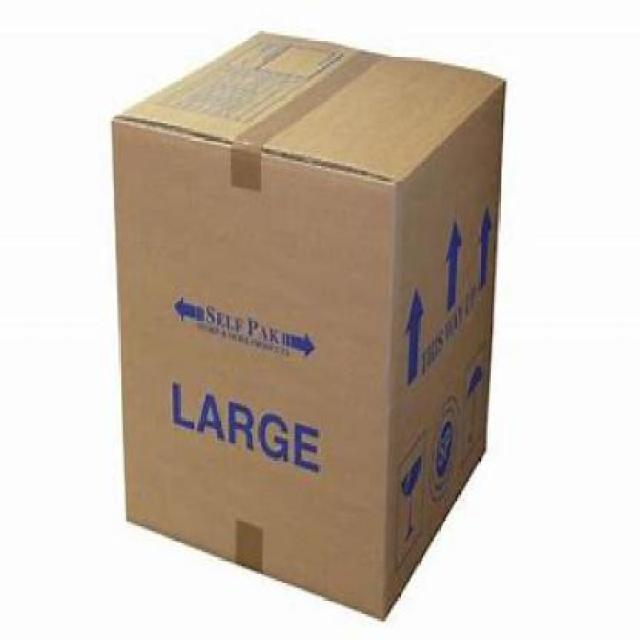cardboxes: (110, 29, 510, 628)
